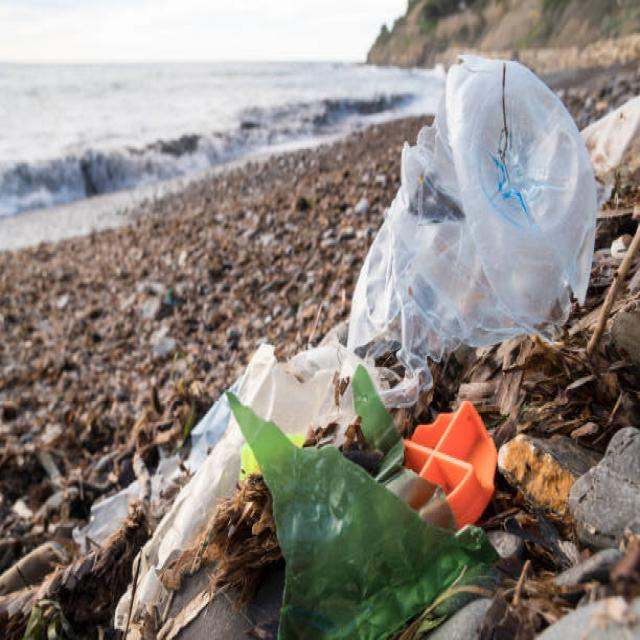plastic: (222, 64, 610, 593)
